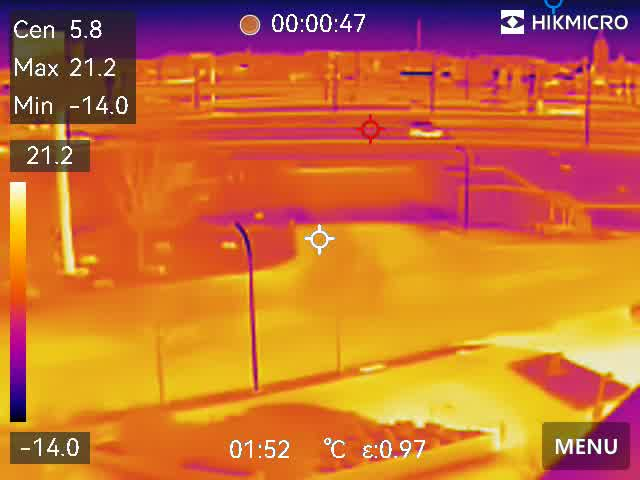vehicle: (408, 117, 444, 139)
